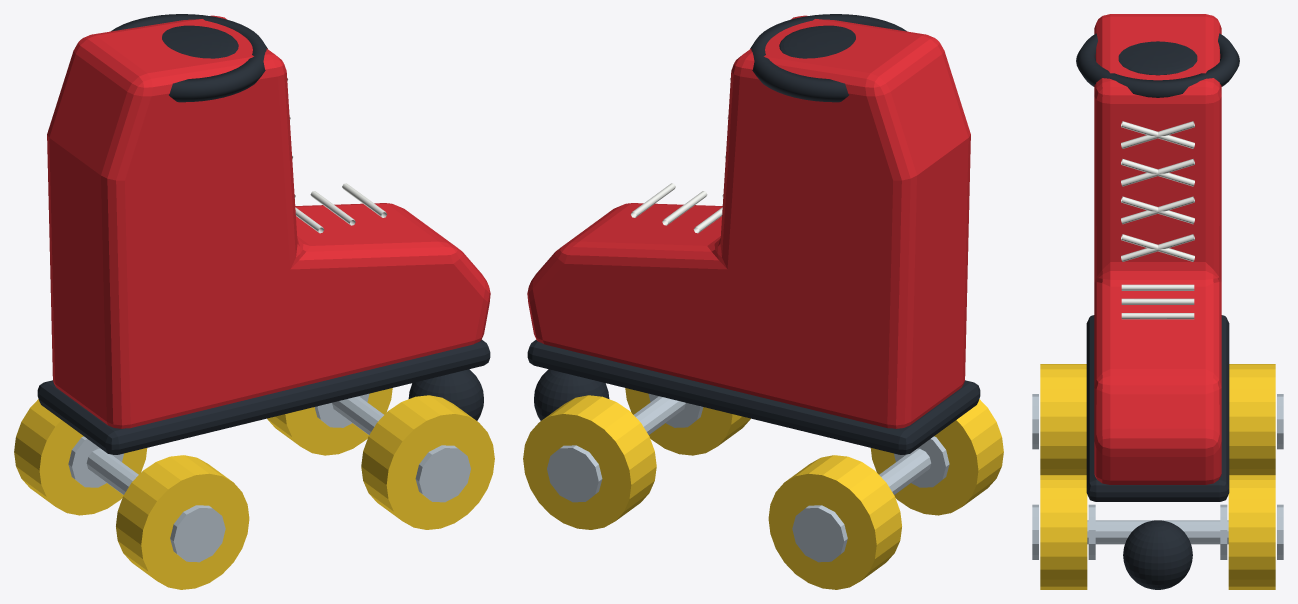
File: roller_derby.glb
3 views of the same model, side by side, from view 1: azimuth 30°, elevation 25°; view 2: azimuth 150°, elevation 25°; view 3: azimuth 270°, elevation 25° (orthographic). The views are drawn at different scales.
Visible parts, largest first — view 1: roller_derby; view 2: roller_derby; view 3: roller_derby.
Boxes of the visible parts, box(x1,y1,x2,y2) form: roller_derby: box(14, 14, 494, 589); roller_derby: box(523, 14, 1003, 589); roller_derby: box(1032, 14, 1283, 589).
Bounding box in the file's own units: 0.3235 × 0.372 × 0.187.
